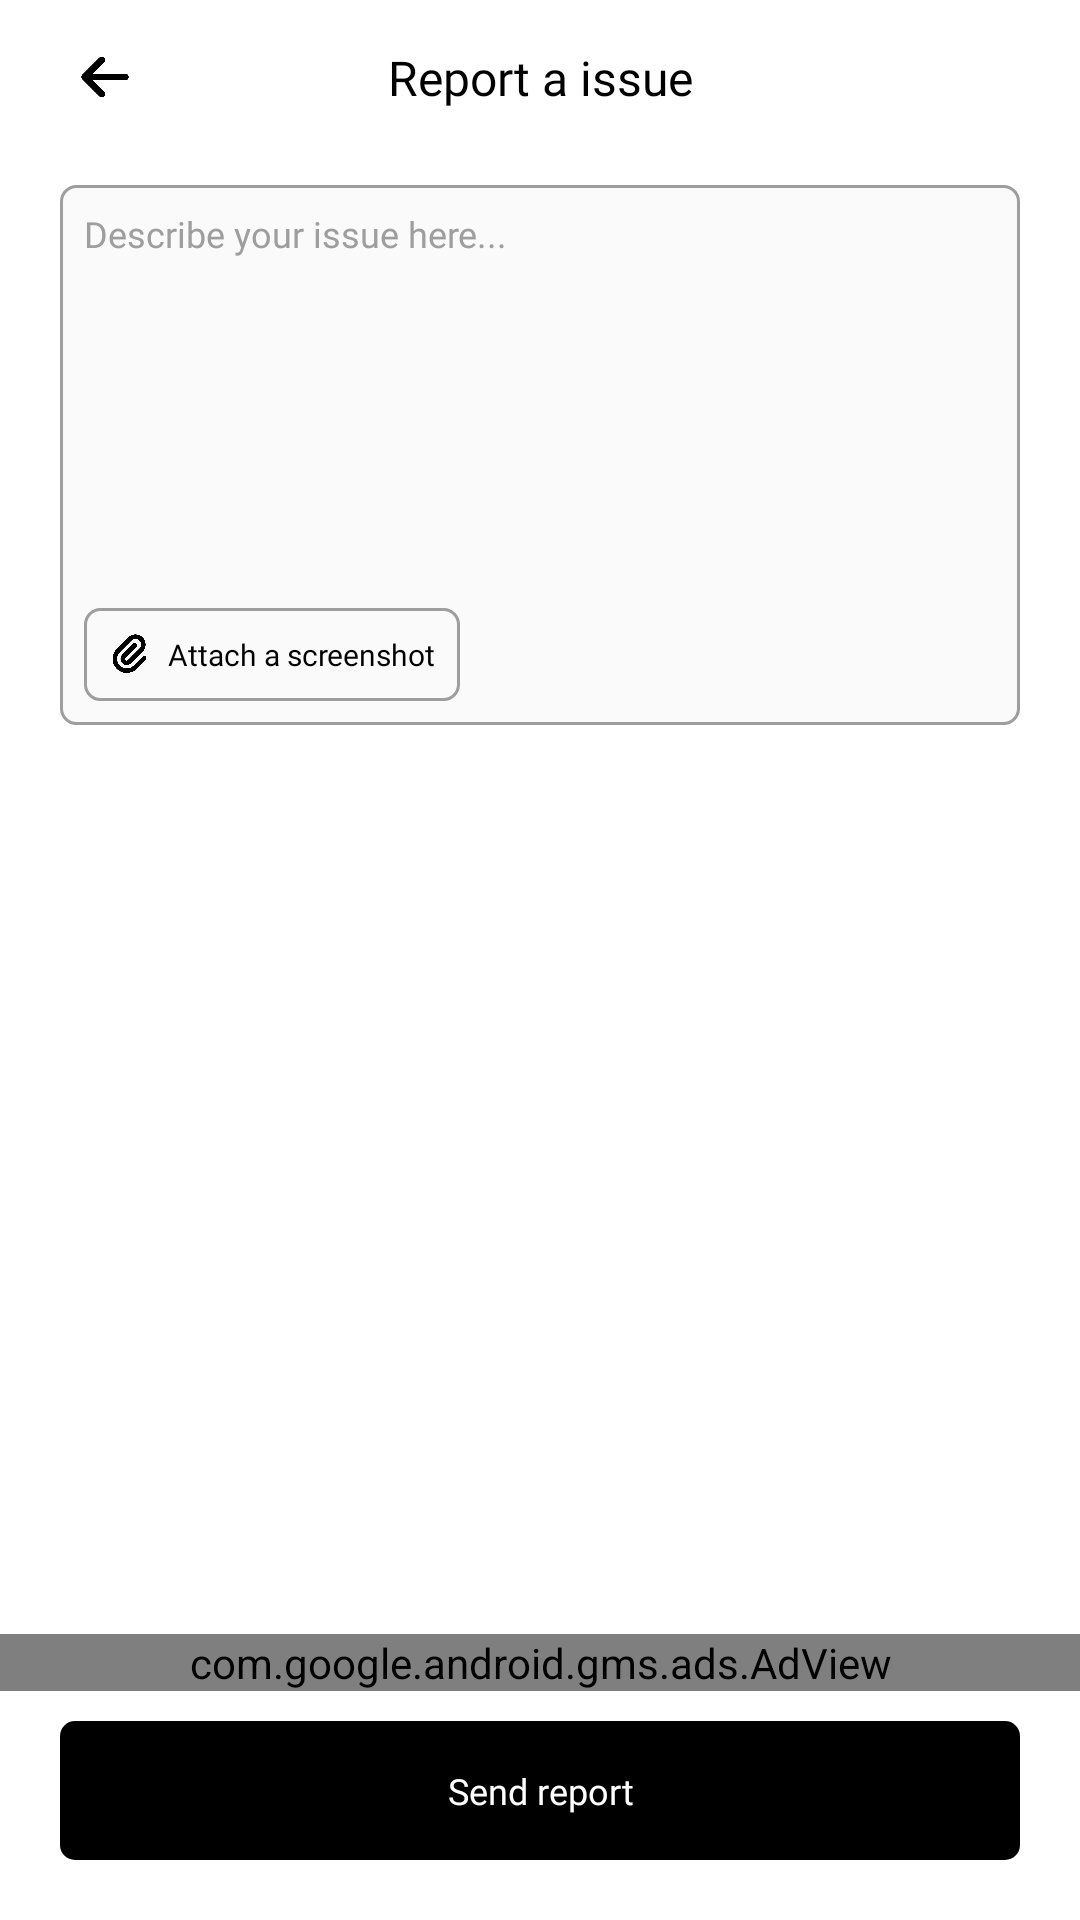

Icon bounding boxes for this 1080x1920 phone screenshot, format [left=x1, top=y1, right=x2, bottom=y2]:
attach file: [left=113, top=634, right=146, bottom=673]
